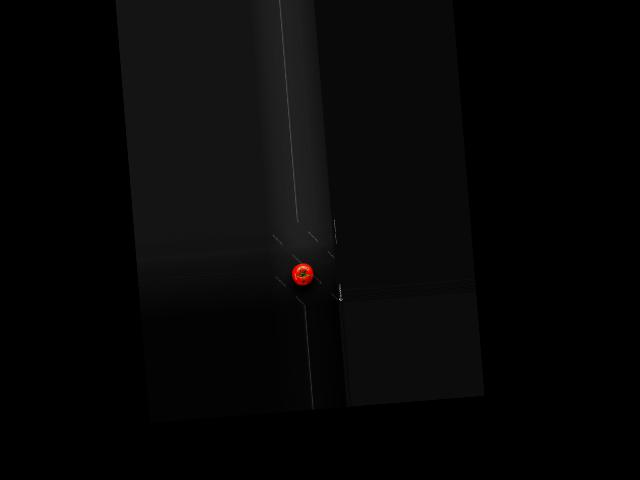tomato: (291, 261, 315, 286)
